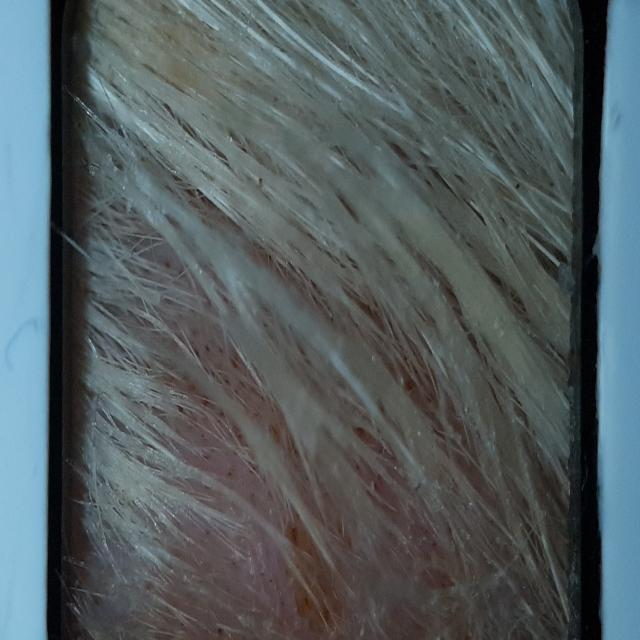fungal infection: (194, 315, 436, 640)
